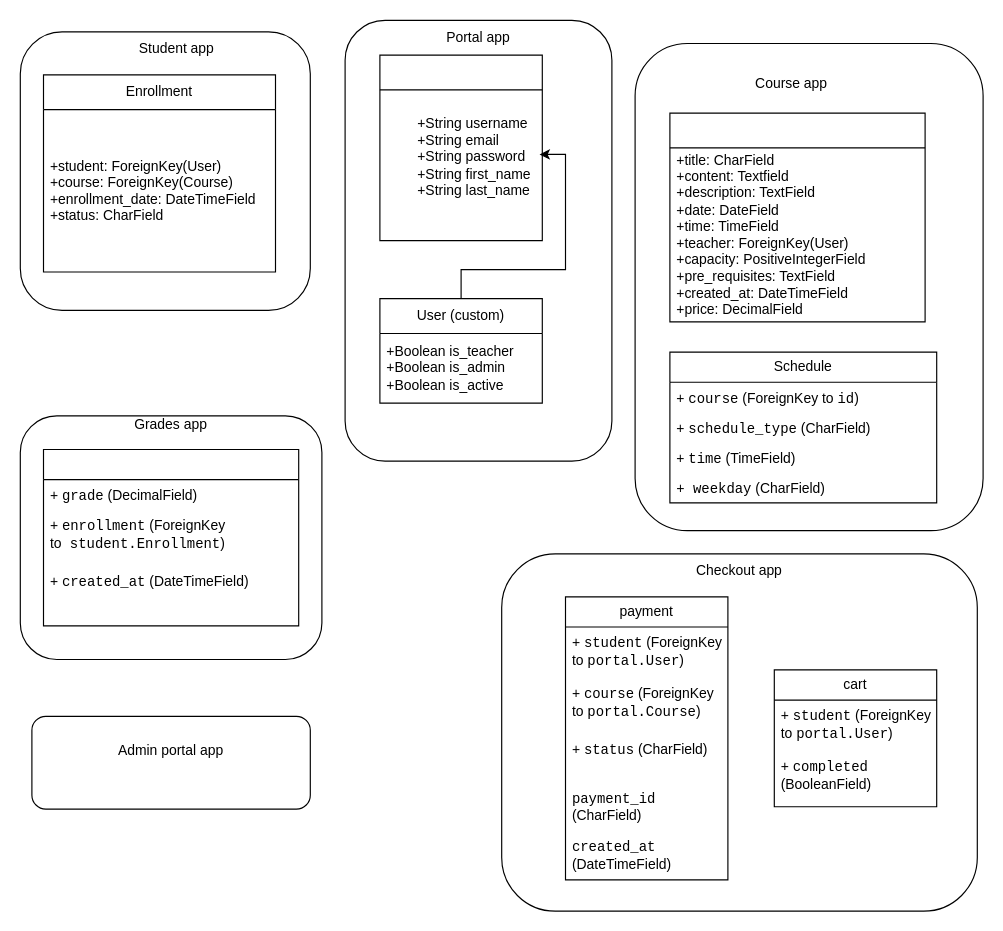
This 1003x931 diagram has some shape labels left out. Here are the shapes that lost their labels. From the top down, the box of each, then its label:
(379, 54, 542, 241): User (abstract - from django)
(669, 112, 925, 322): Course
(42, 448, 299, 626): Grades
